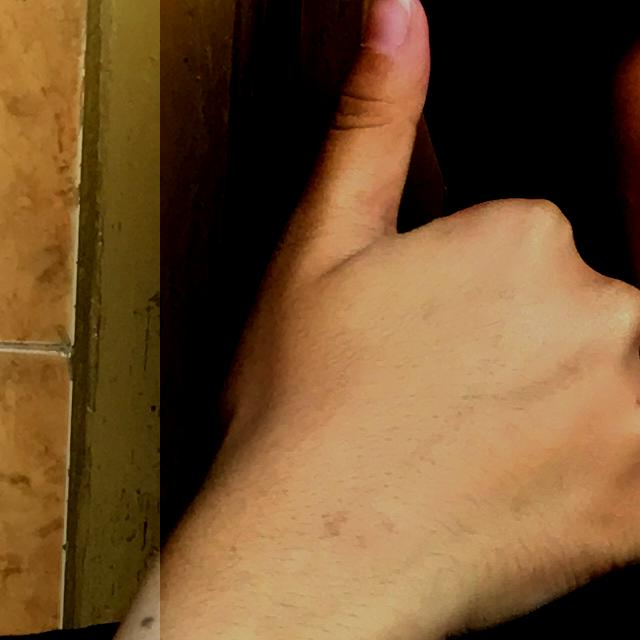telpon: (160, 0, 640, 640)
